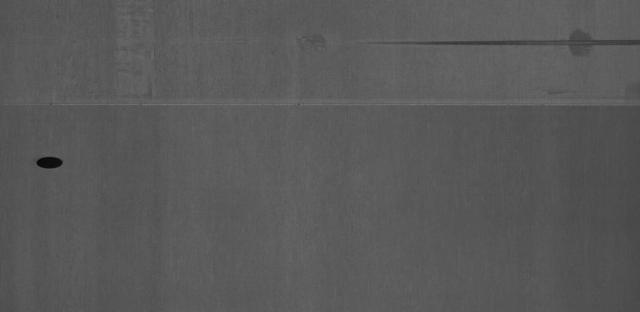crease: (361, 25, 640, 56)
oil_spot: (566, 29, 596, 58)
punching_hole: (29, 153, 69, 174)
welding_line: (5, 97, 640, 117)
